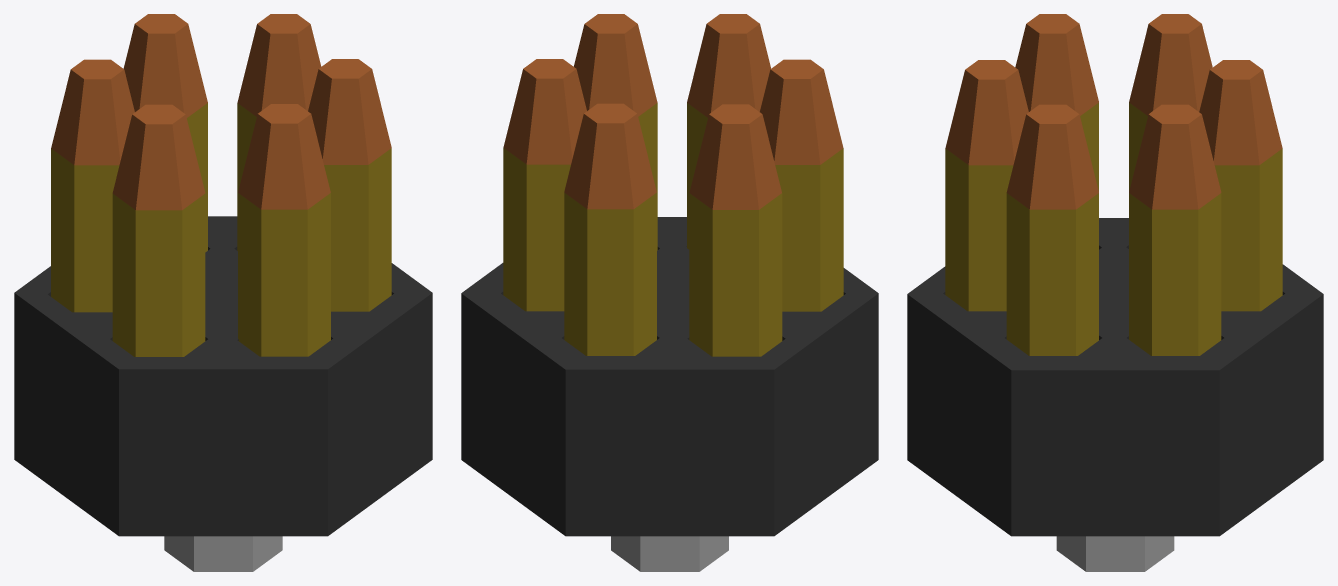
Rendered from Revolver_Speedloader.fbx.
3 renders of one model, left to right at view 1: azimuth 30°, elevation 25°; view 2: azimuth 150°, elevation 25°; view 3: azimuth 270°, elevation 25°, orthographic.
Parts seen in each view (by area): view 1: Revolver_Speedloader; view 2: Revolver_Speedloader; view 3: Revolver_Speedloader.
Boxes of the visible parts, bbox=[...] form: Revolver_Speedloader: bbox=[14, 14, 432, 571]; Revolver_Speedloader: bbox=[461, 14, 878, 571]; Revolver_Speedloader: bbox=[907, 14, 1323, 571].
Bounding box in the file's own units: 3.54 × 5.19 × 4.08.
